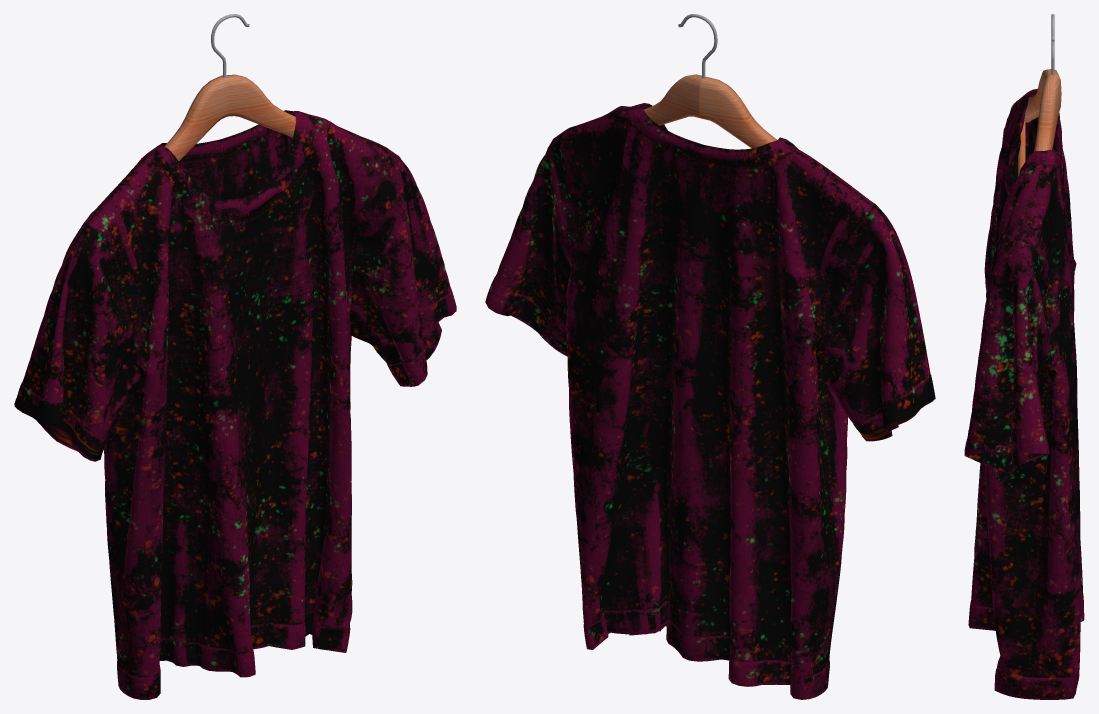
Rendered from check-shirt.glb.
The picture shows the model from 3 angles, left to right: view 1: azimuth 30°, elevation 25°; view 2: azimuth 150°, elevation 25°; view 3: azimuth 270°, elevation 25°; orthographic projection. The views are drawn at different scales.
Parts seen in each view (by area): view 1: source_mesh_9, source_mesh_10, source_mesh_11; view 2: source_mesh_10, source_mesh_9, source_mesh_11; view 3: source_mesh_9, source_mesh_10, source_mesh_11, source_mesh_7.
Boxes of the visible parts, box(x1,y1,x2,y2) form: source_mesh_9: box(22, 111, 450, 676); source_mesh_10: box(14, 110, 456, 699); source_mesh_11: box(164, 74, 295, 161); source_mesh_10: box(485, 105, 935, 699); source_mesh_9: box(495, 103, 930, 661); source_mesh_11: box(644, 74, 777, 148); source_mesh_9: box(969, 88, 1052, 677); source_mesh_10: box(964, 92, 1084, 699); source_mesh_11: box(1018, 69, 1061, 176); source_mesh_7: box(1051, 14, 1054, 74).
Size of the model in its own units: 1.66 by 2.4 by 0.4081.
Materials: 3 (2 with a texture image).
